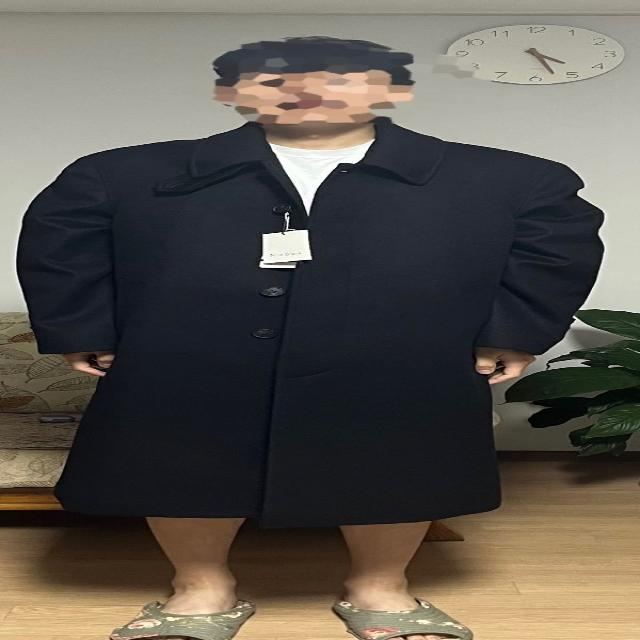coat: (13, 118, 608, 524)
